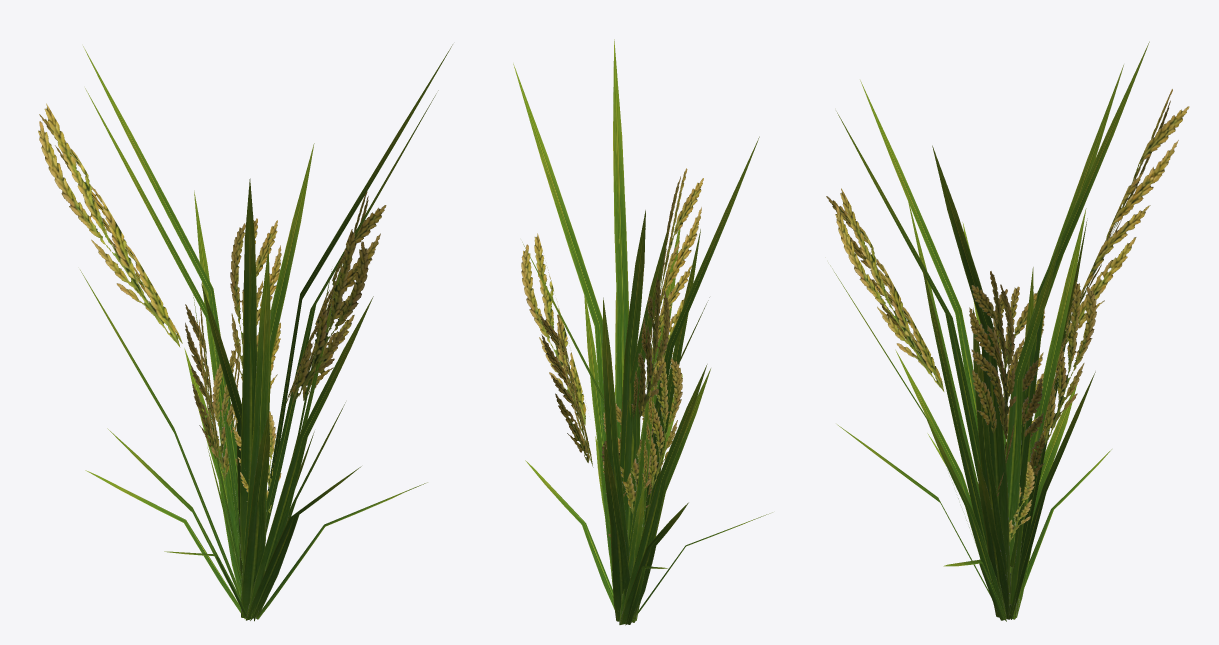
File: Reworked RicePlant_LOD4.fbx
3 renders of one model, left to right at view 1: azimuth 30°, elevation 25°; view 2: azimuth 150°, elevation 25°; view 3: azimuth 270°, elevation 25°, orthographic. The views are drawn at different scales.
Visible parts, largest first — view 1: riceleaf_1, ricenose_2; view 2: riceleaf_1, ricenose_2; view 3: riceleaf_1, ricenose_2.
Boxes of the visible parts, x1,y1,x2,y2 form: riceleaf_1: (80, 44, 452, 621); ricenose_2: (38, 103, 386, 531); riceleaf_1: (513, 39, 772, 625); ricenose_2: (521, 168, 703, 537); riceleaf_1: (830, 41, 1149, 621); ricenose_2: (826, 89, 1189, 541).
Size of what is drawn, in the model's own units: 70.21 by 123 by 74.34.
2 materials, 2 textured.
